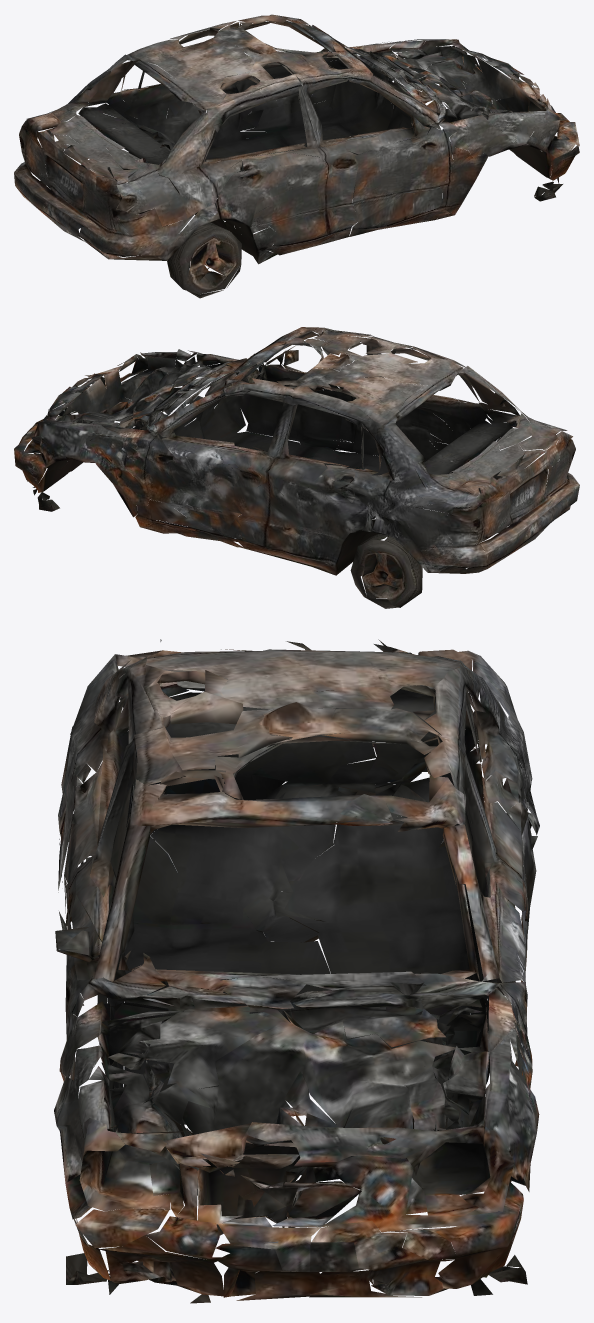
File: wreck_car.glb
3 renders of one model, top to bottom at view 1: azimuth 30°, elevation 25°; view 2: azimuth 150°, elevation 25°; view 3: azimuth 270°, elevation 25°, orthographic. The views are drawn at different scales.
Parts seen in each view (by area): view 1: tripo_node_7df73bbf-ecf6-4918-be19-0ea87247f227; view 2: tripo_node_7df73bbf-ecf6-4918-be19-0ea87247f227; view 3: tripo_node_7df73bbf-ecf6-4918-be19-0ea87247f227.
Part boxes in pixels (box(x1,y1,x2,y2)): tripo_node_7df73bbf-ecf6-4918-be19-0ea87247f227: box(14, 14, 579, 298); tripo_node_7df73bbf-ecf6-4918-be19-0ea87247f227: box(14, 327, 579, 608); tripo_node_7df73bbf-ecf6-4918-be19-0ea87247f227: box(54, 639, 539, 1303).
Bounding box in the file's own units: 3.82 × 1.4 × 1.64.
1 material, 1 textured.
